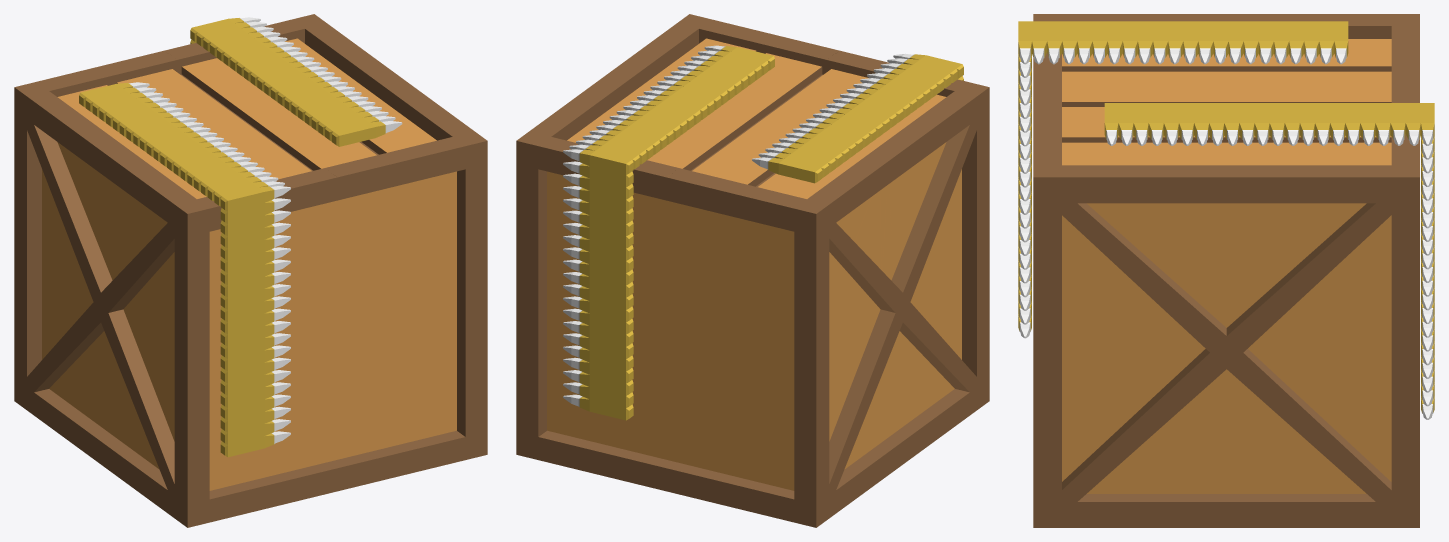
The model's file is AmmoCrate.fbx.
3 views of the same model, side by side, from view 1: azimuth 30°, elevation 25°; view 2: azimuth 150°, elevation 25°; view 3: azimuth 270°, elevation 25° (orthographic). The views are drawn at different scales.
Visible parts, largest first — view 1: AmmoCrate; view 2: AmmoCrate; view 3: AmmoCrate.
Boxes of the visible parts, x1,y1,x2,y2 form: AmmoCrate: (14,14,487,527); AmmoCrate: (516,14,989,527); AmmoCrate: (1018,14,1434,527).
Bounding box in the file's own units: 200 × 206 × 215.
